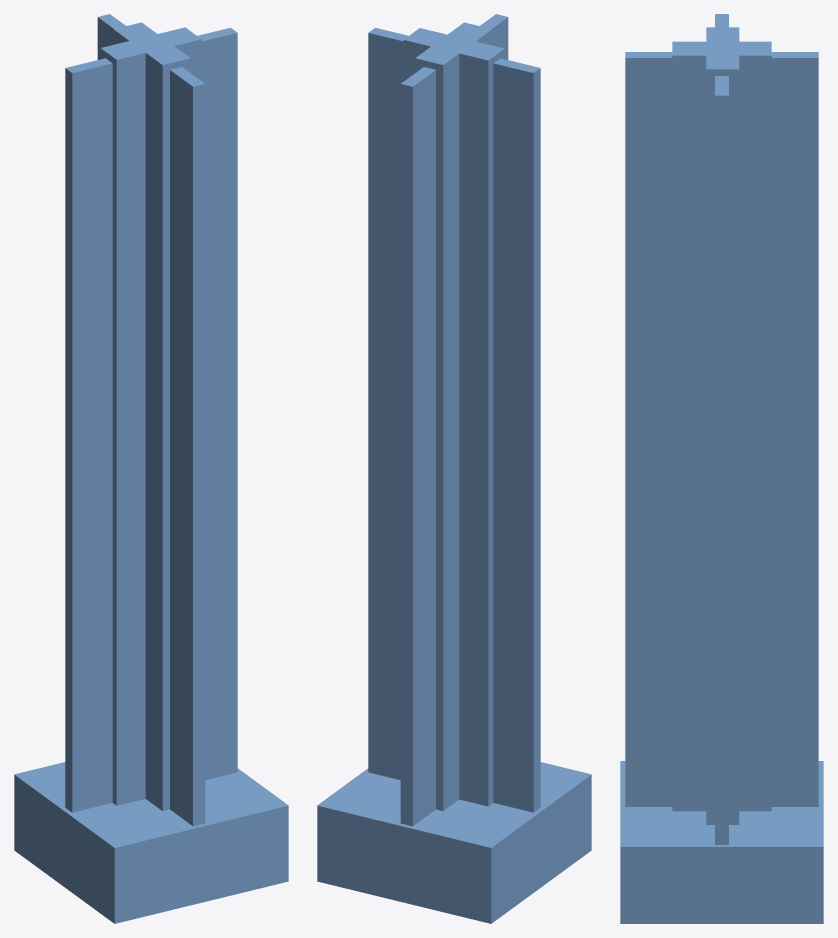
The model's file is SteelPillar.fbx.
3 renders of one model, left to right at view 1: azimuth 30°, elevation 25°; view 2: azimuth 150°, elevation 25°; view 3: azimuth 270°, elevation 25°, orthographic.
Visible parts, largest first — view 1: SteelPillar; view 2: SteelPillar; view 3: SteelPillar.
Boxes of the visible parts, x1,y1,x2,y2 form: SteelPillar: (14,14,288,923); SteelPillar: (317,14,591,923); SteelPillar: (620,14,823,923).
Bounding box in the file's own units: 100 × 451 × 100.
